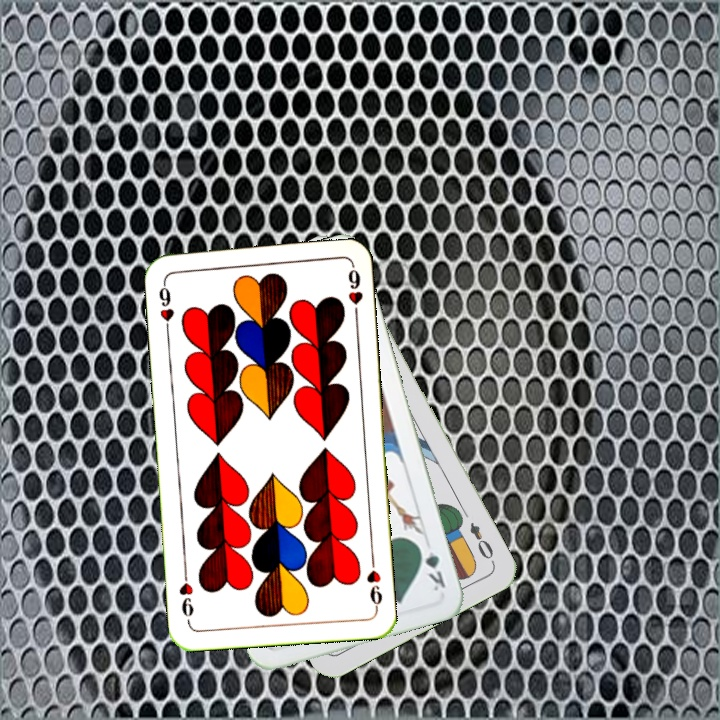EO: (465, 518, 496, 563)
GK: (414, 540, 448, 594)
H9: (362, 553, 385, 612), (154, 277, 177, 336)
